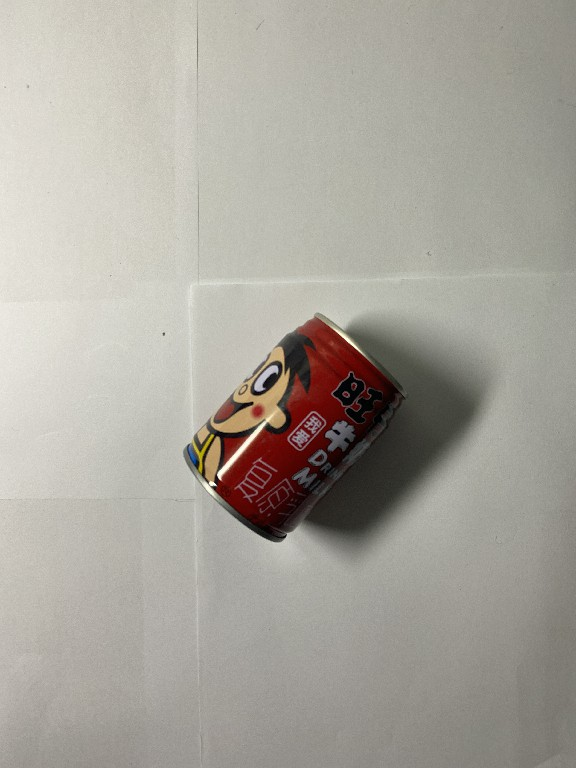can: (181, 309, 408, 548)
